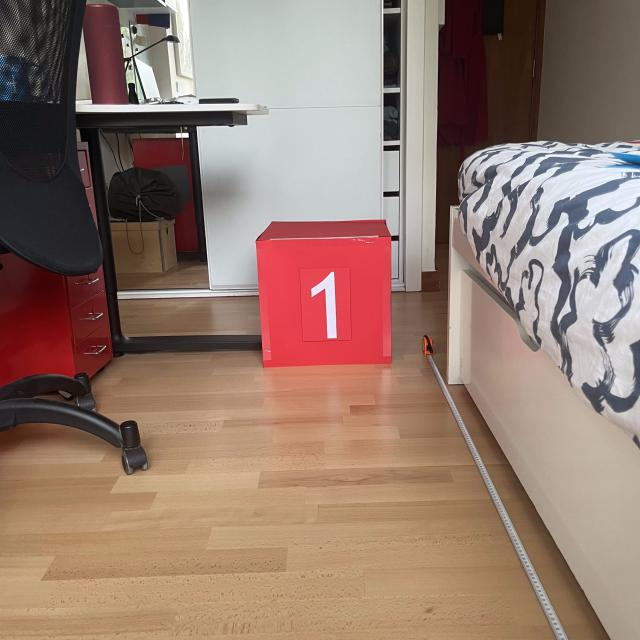box: (252, 215, 395, 370)
